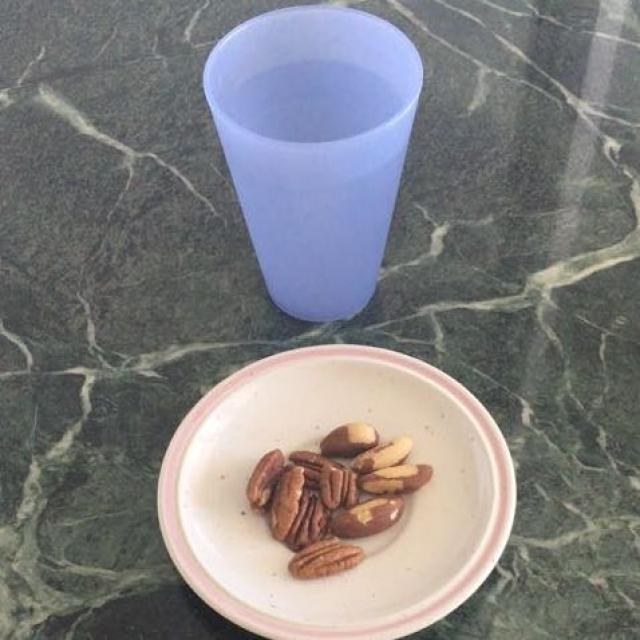mixed-nuts: (254, 425, 424, 572)
water: (222, 46, 416, 318)
